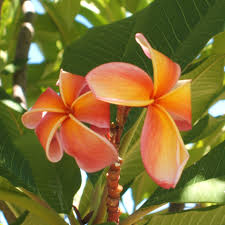frangipani: (84, 33, 200, 188), (21, 72, 118, 172)
